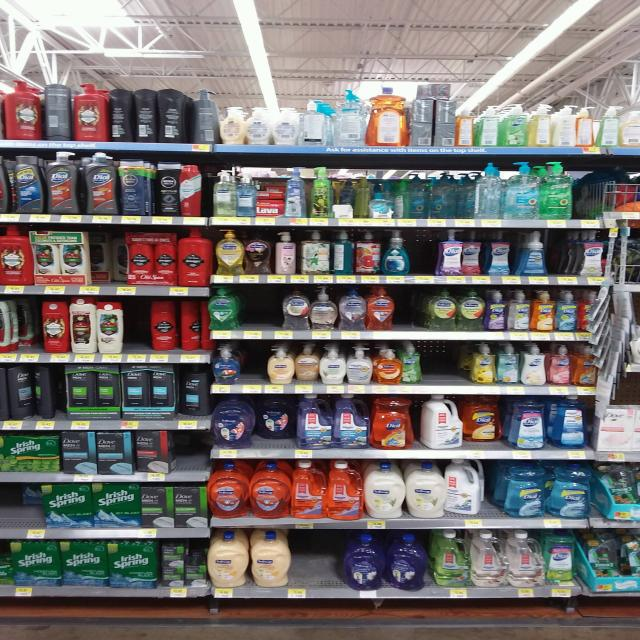void: (296, 532, 339, 600), (91, 232, 122, 297), (0, 487, 36, 541), (11, 299, 40, 364), (245, 287, 279, 341), (578, 165, 605, 229), (398, 286, 428, 340), (175, 432, 206, 484), (482, 460, 504, 533), (554, 232, 580, 288), (446, 341, 472, 396), (127, 300, 149, 364), (414, 231, 436, 287), (243, 342, 266, 394), (427, 342, 444, 398)
